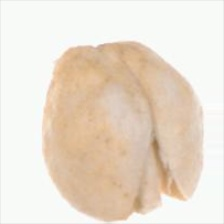L3: (126, 131, 190, 221)
L4: (43, 40, 204, 222)
